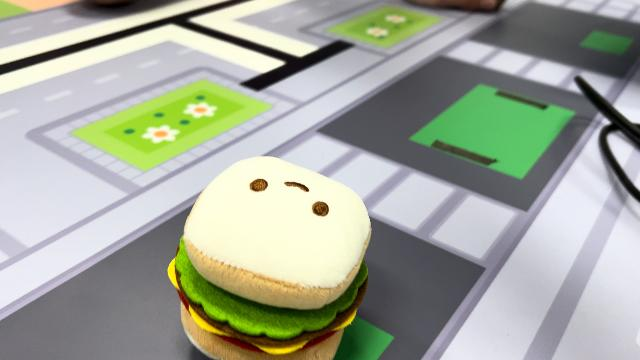sandwich: (166, 153, 374, 357)
